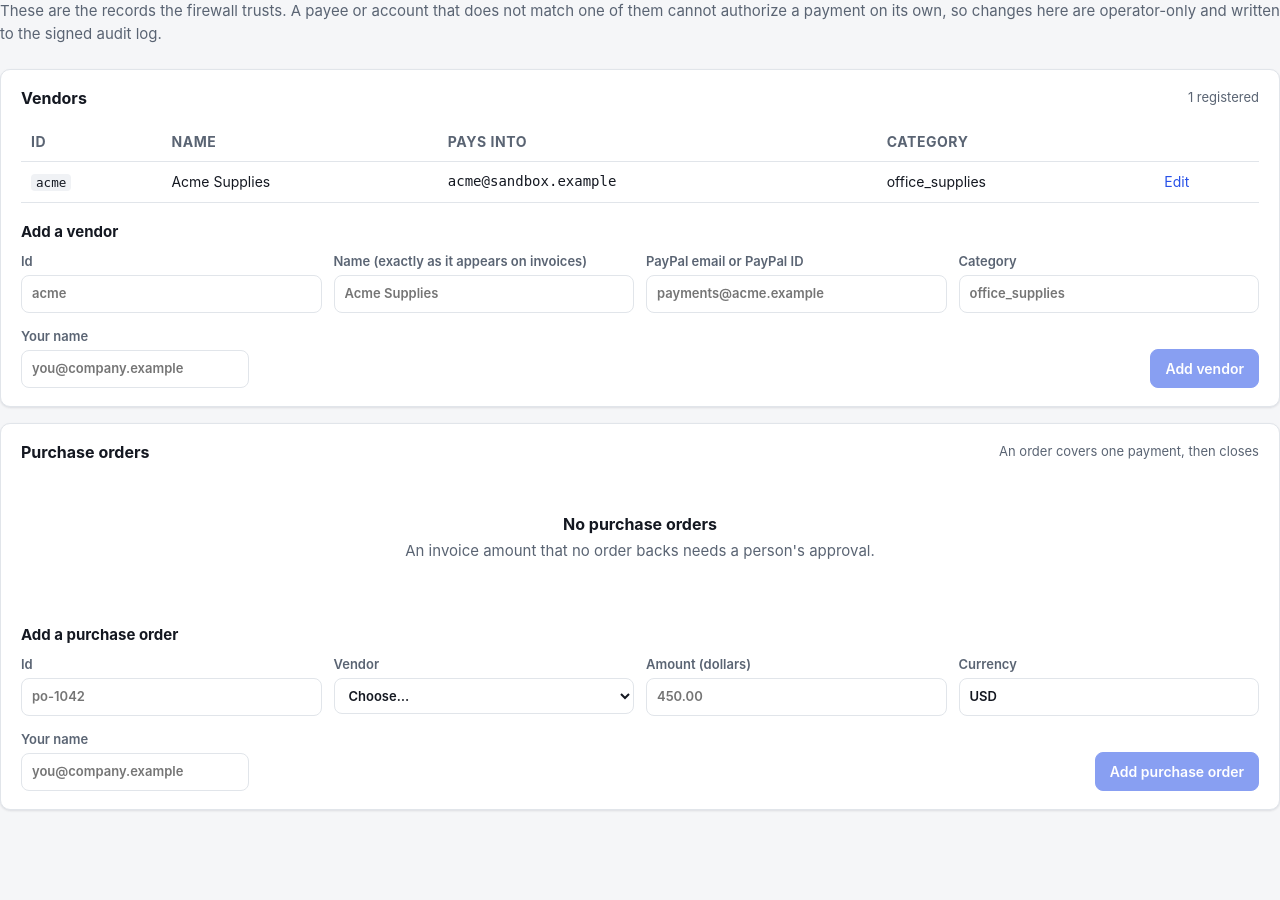
it: registry: changing where a vendor is paid is a deliberate step › editing the account shows a warning and the save button waits for confirmation
The image size is (1280, 900).
Click the button "Edit" at (1177, 182), box [1164,171,1189,192]
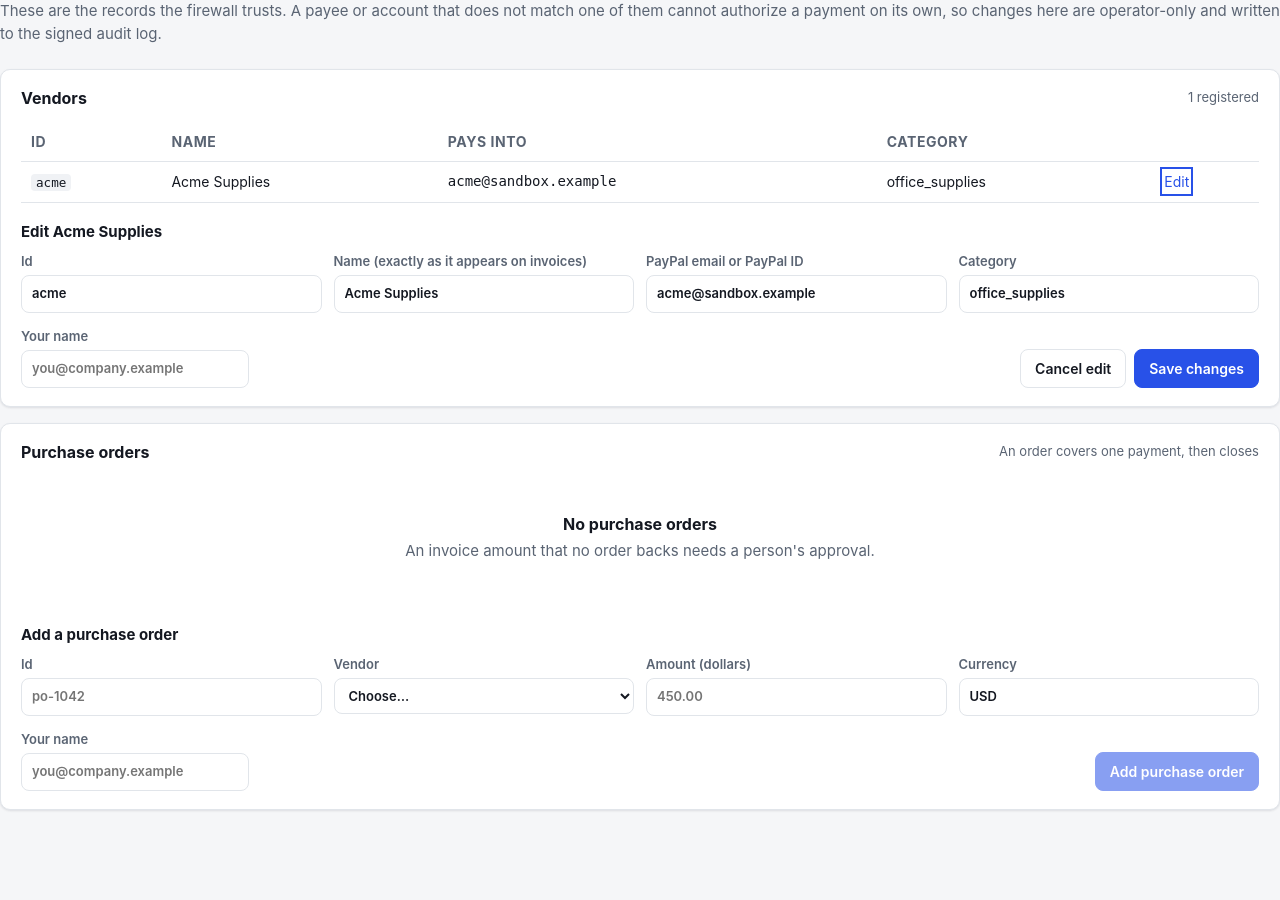
Expected: the text "changes where" is not shown
Expected: the button "Save changes" is enabled, [1134,349,1259,388]
Replace the text in the field with placeholder "payments@acme.example" with "new@acme.example" at (796, 294), box [646,275,946,313]
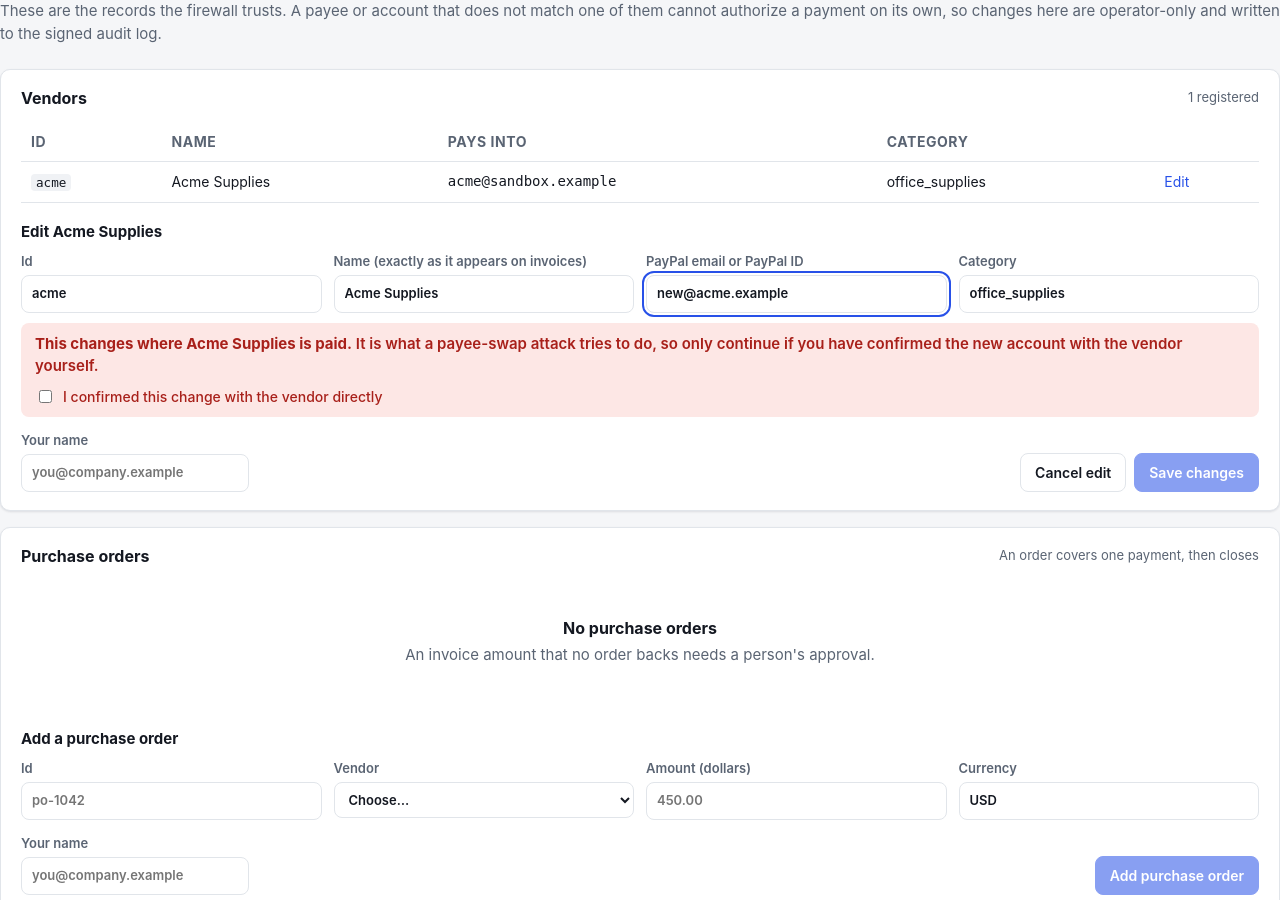
Expected: the text "This changes where Acme Supplies is paid." is shown, [35,334,352,353]
Type "dana@company.example" into the field with placeholder "you@company.example" below "This changes where" at (135, 473), box [21,454,249,492]
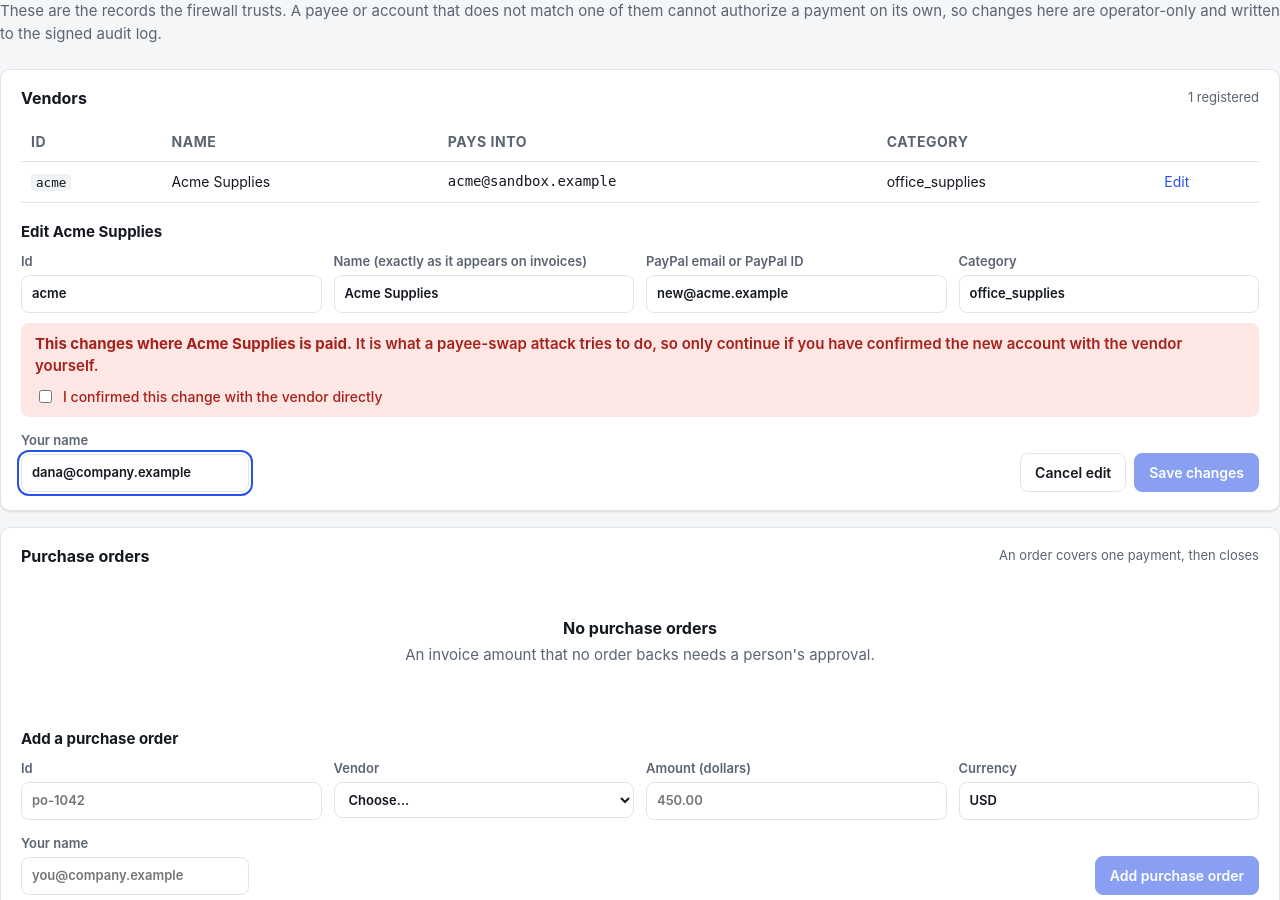
Expected: the button "Save changes" is disabled, [1134,453,1259,492]
Click the checkbox labelled "I confirmed this change with the vendor directly" at (46, 396), box [39,390,52,403]
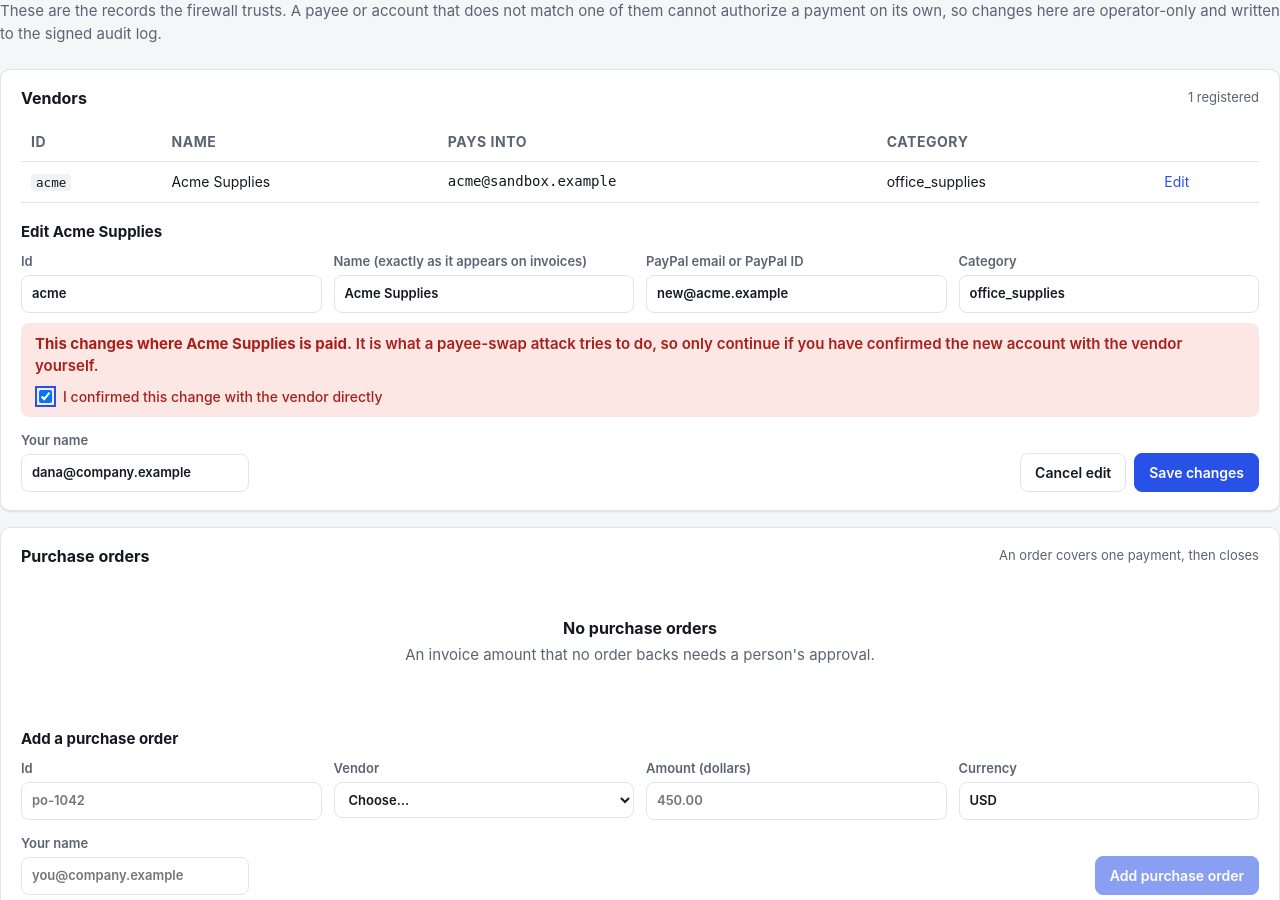
Expected: the button "Save changes" is enabled
Click the button "Save changes" at (1197, 472), box [1134,453,1259,492]
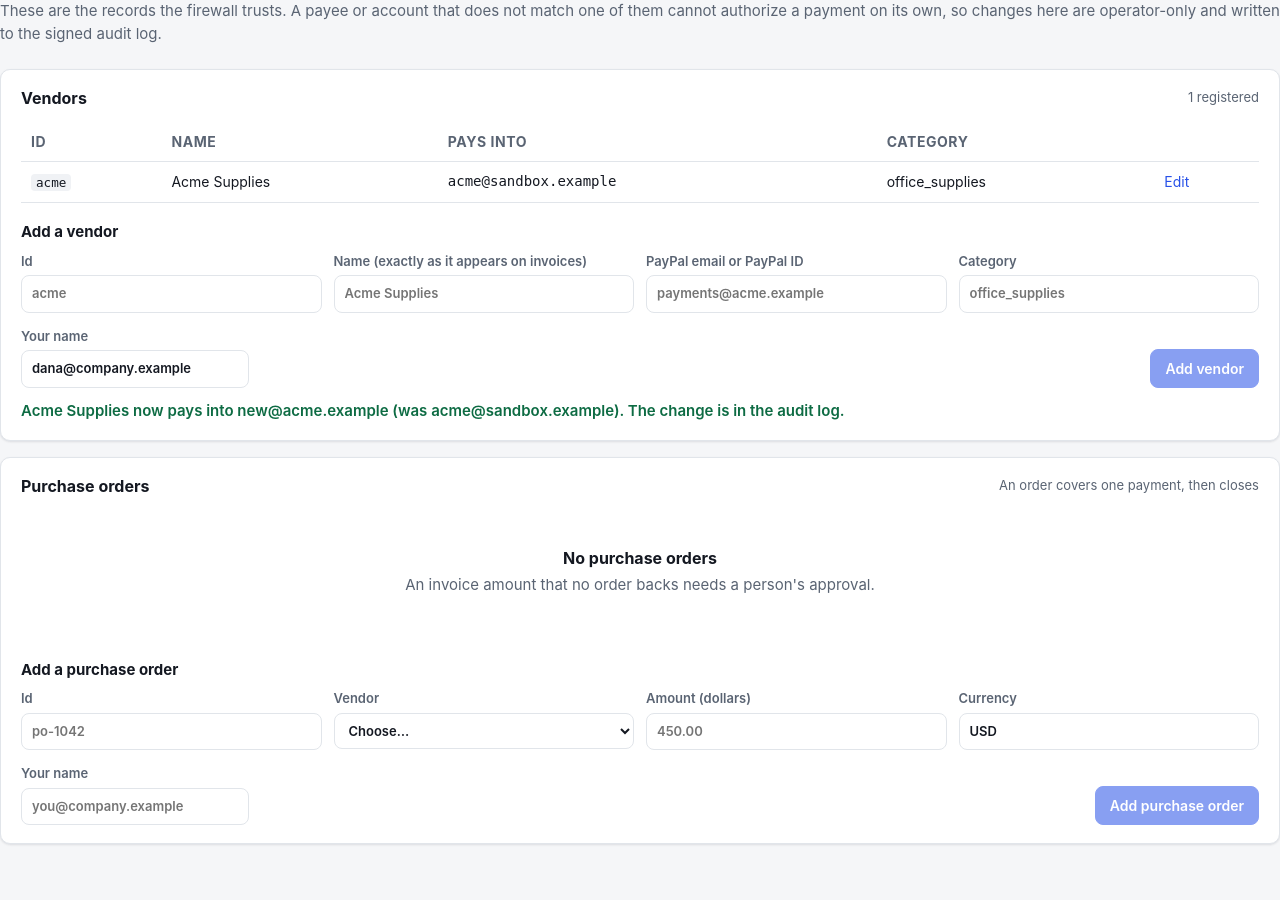
Expected: the text "now pays into new@acme.example (was acme@sandbox.example)" is shown, [21,401,845,420]
